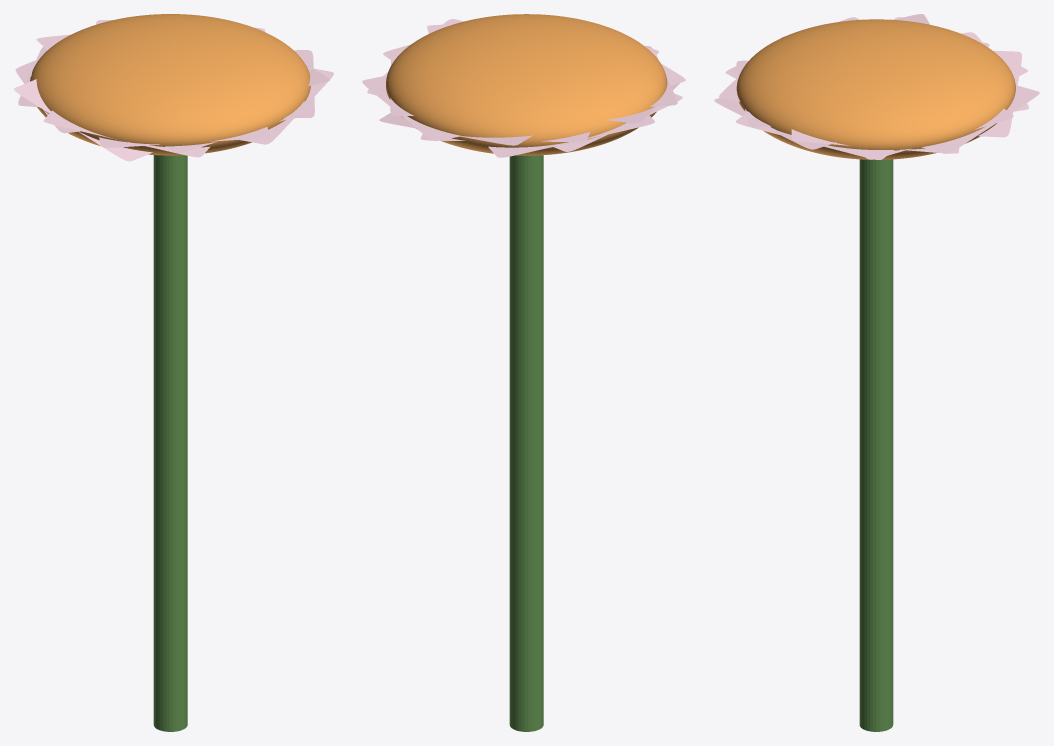
3 renders of one model, left to right at view 1: azimuth 30°, elevation 25°; view 2: azimuth 150°, elevation 25°; view 3: azimuth 270°, elevation 25°, orthographic.
Parts seen in each view (by area): view 1: Sphere, Cylinder, Plane.007, Plane.008, Plane.011, Plane.009; view 2: Sphere, Cylinder, Plane.002, Plane.005, Plane.003; view 3: Sphere, Cylinder, Plane.002, Plane.003, Plane.012, Plane.011.
Part boxes in pixels (left/top/right/bottom): Sphere: left=30, top=14, right=310, bottom=155; Cylinder: left=153, top=155, right=187, bottom=731; Plane.007: left=14, top=79, right=152, bottom=161; Plane.008: left=43, top=110, right=210, bottom=157; Plane.011: left=240, top=67, right=333, bottom=144; Plane.009: left=99, top=127, right=269, bottom=147; Sphere: left=386, top=14, right=667, bottom=155; Cylinder: left=509, top=155, right=543, bottom=731; Plane.002: left=362, top=75, right=461, bottom=140; Plane.005: left=488, top=114, right=654, bottom=157; Plane.003: left=379, top=113, right=532, bottom=145; Sphere: left=736, top=19, right=1015, bottom=159; Cylinder: left=859, top=159, right=893, bottom=731; Plane.002: left=922, top=85, right=1039, bottom=153; Plane.003: left=978, top=50, right=1021, bottom=137; Plane.012: left=735, top=111, right=894, bottom=159; Plane.011: left=714, top=98, right=836, bottom=149.
Bounding box in the file's own units: 0.5751 × 1.32 × 0.5805.
